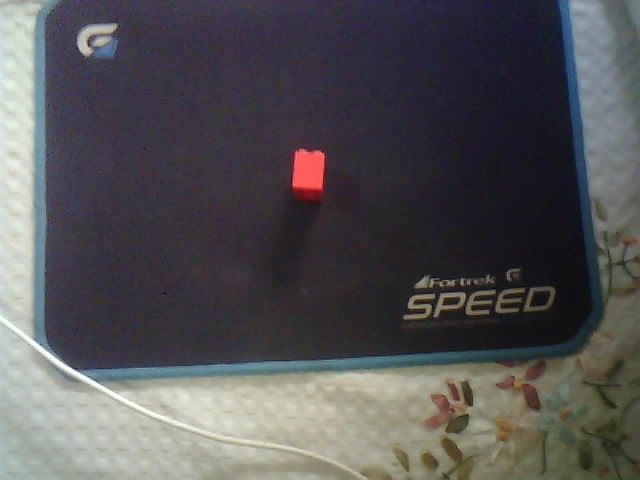lego: (290, 147, 325, 200)
